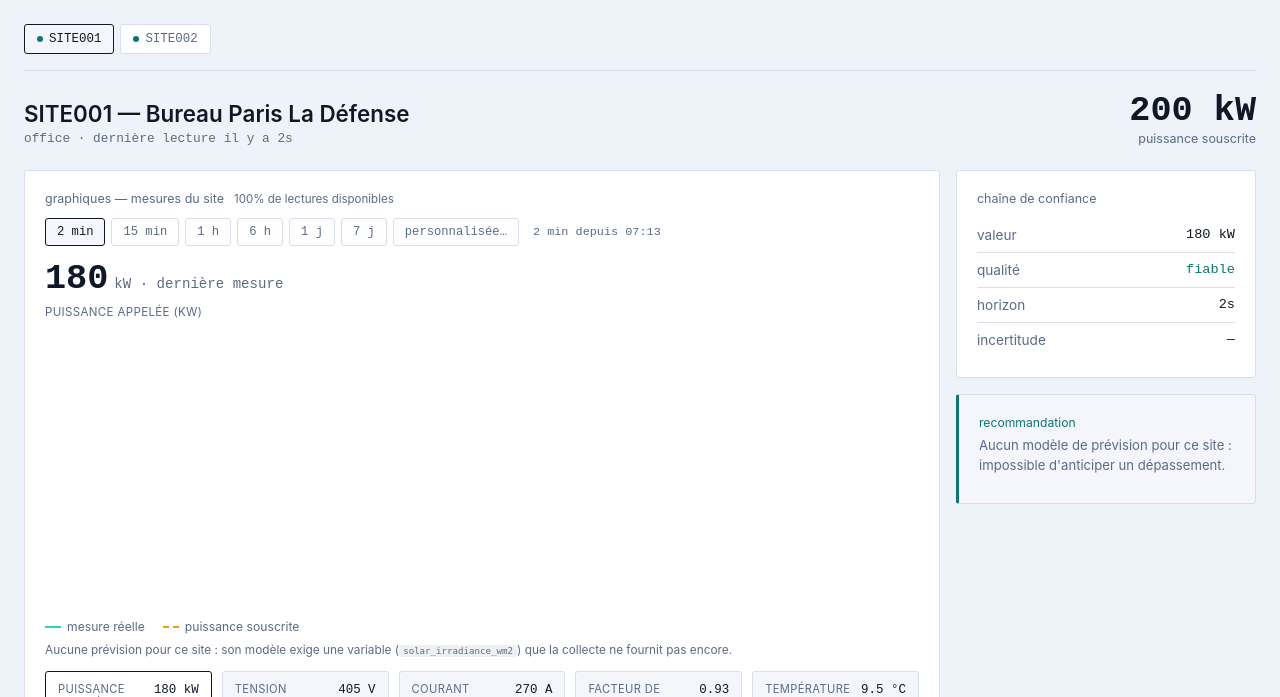
Scenario: DashboardView › dépasse les 24 h par le formulaire, en éclaircissant la réponse
Click the button "personnalisée…": x=456, y=232 [393, 218, 519, 246]
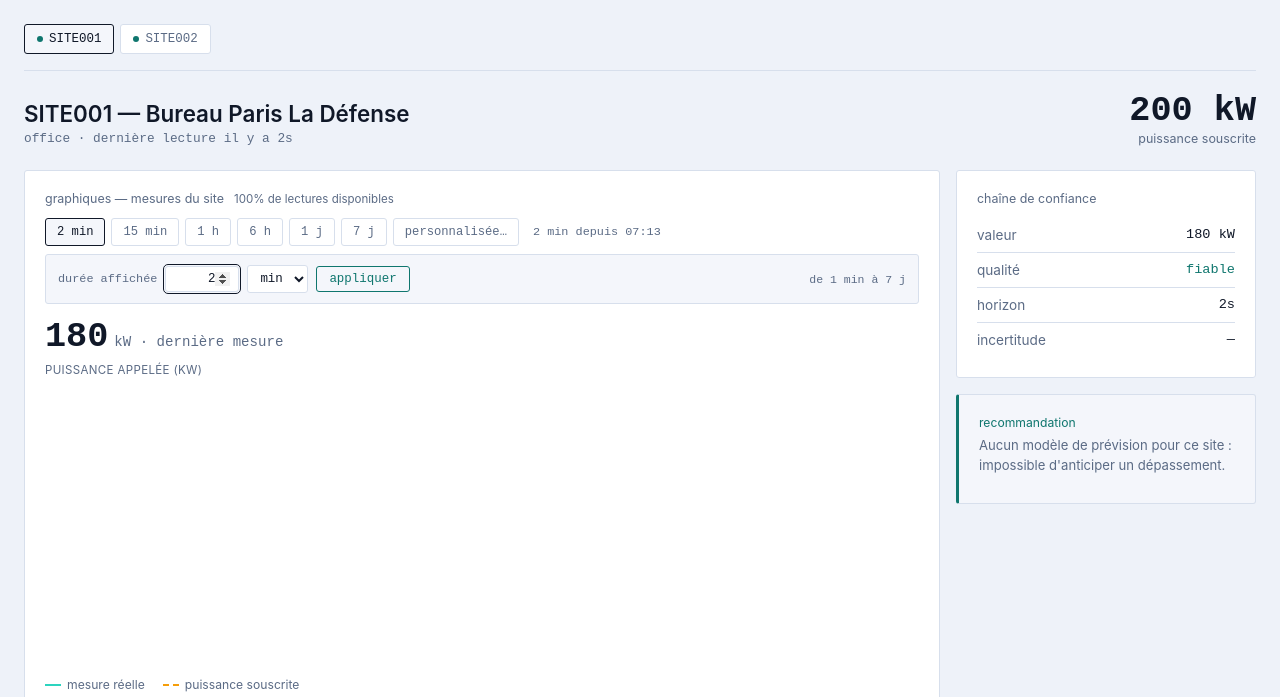
Replace the text in the number field with class "saisie-periode-duree" with "3": x=202, y=279 [165, 266, 239, 292]
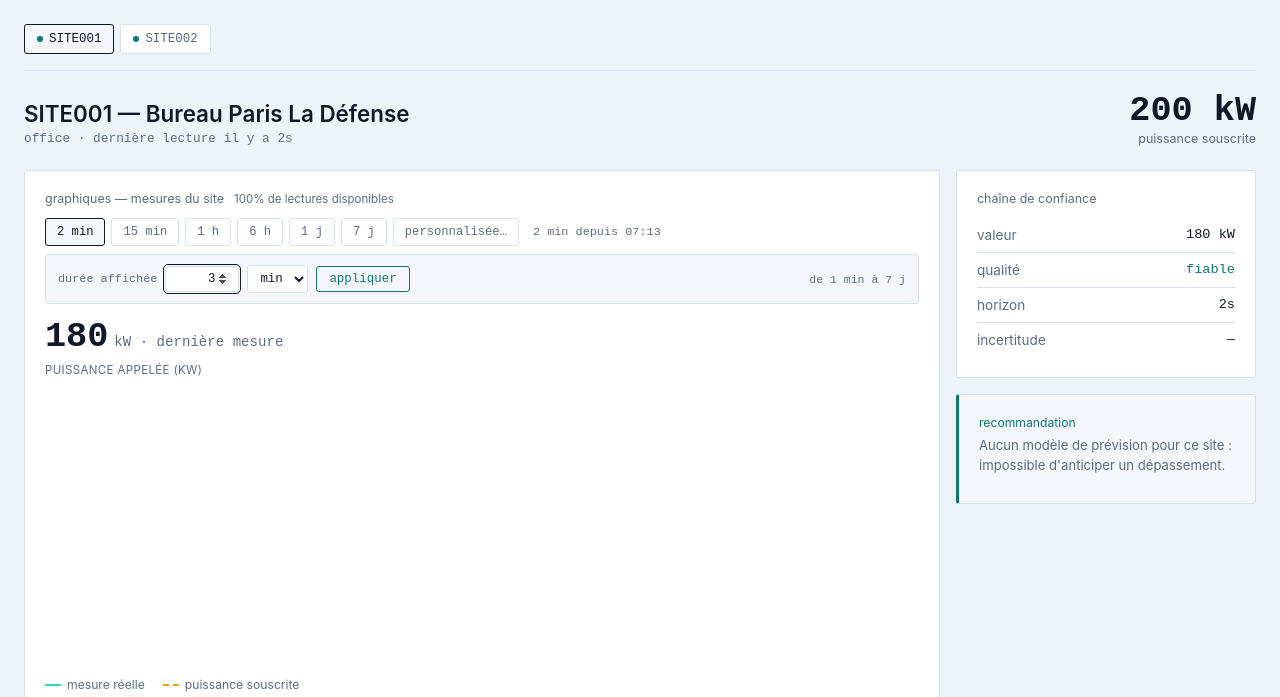
Select "j" in the dropdown with class "saisie-periode-unite": x=278, y=279 [247, 265, 308, 293]
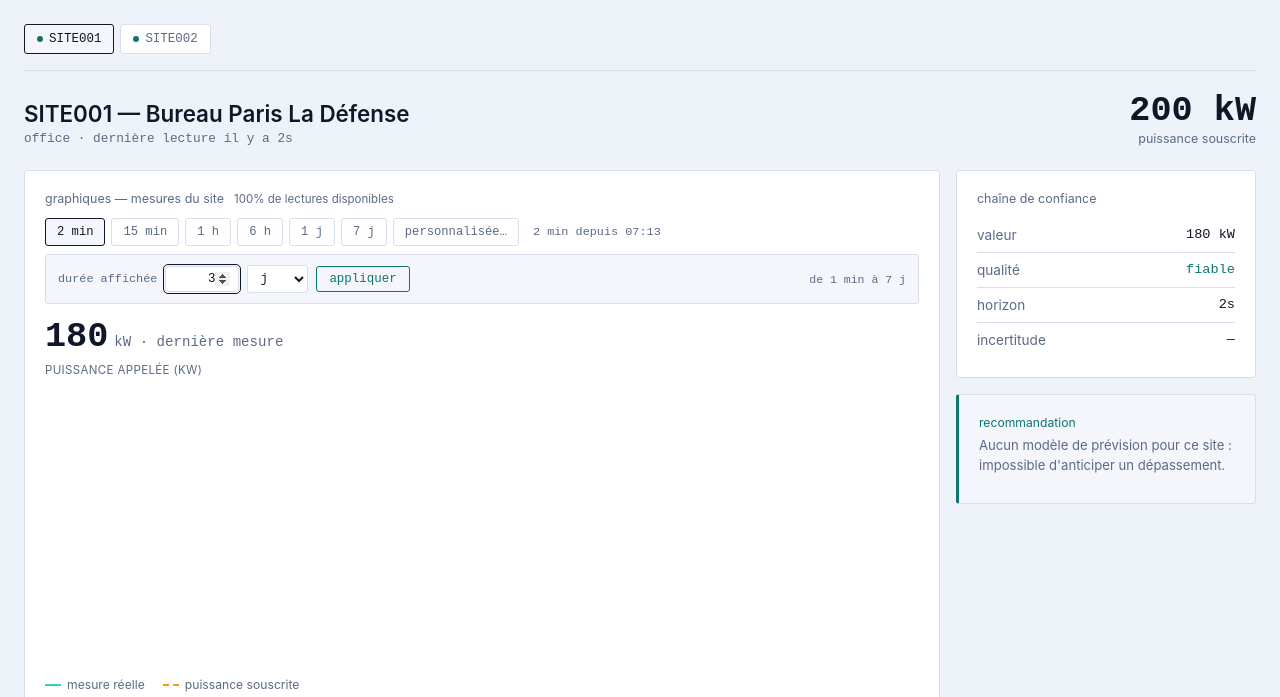
Submit the form with class "saisie-periode", box [45, 254, 919, 304]
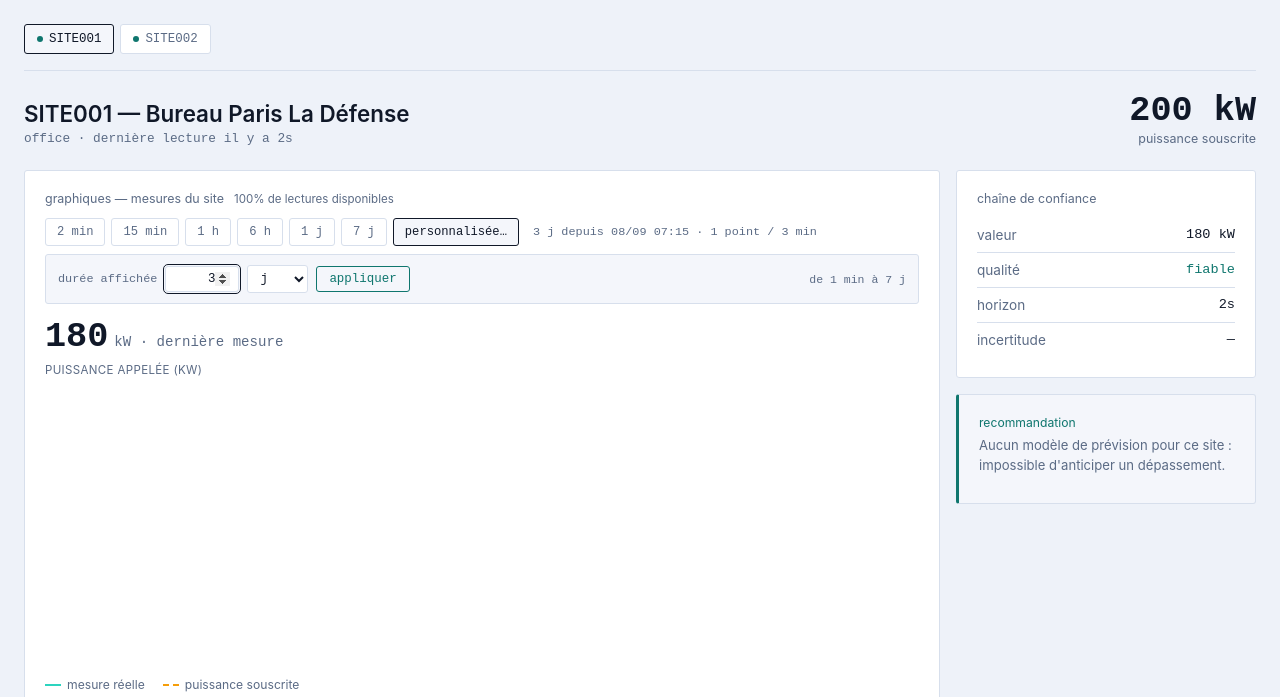
Now the text with class "resume-periode" shows "3 j", box [533, 225, 817, 239]
Now the text with class "resume-periode" shows "1 point / 3 min", box [533, 225, 817, 239]
